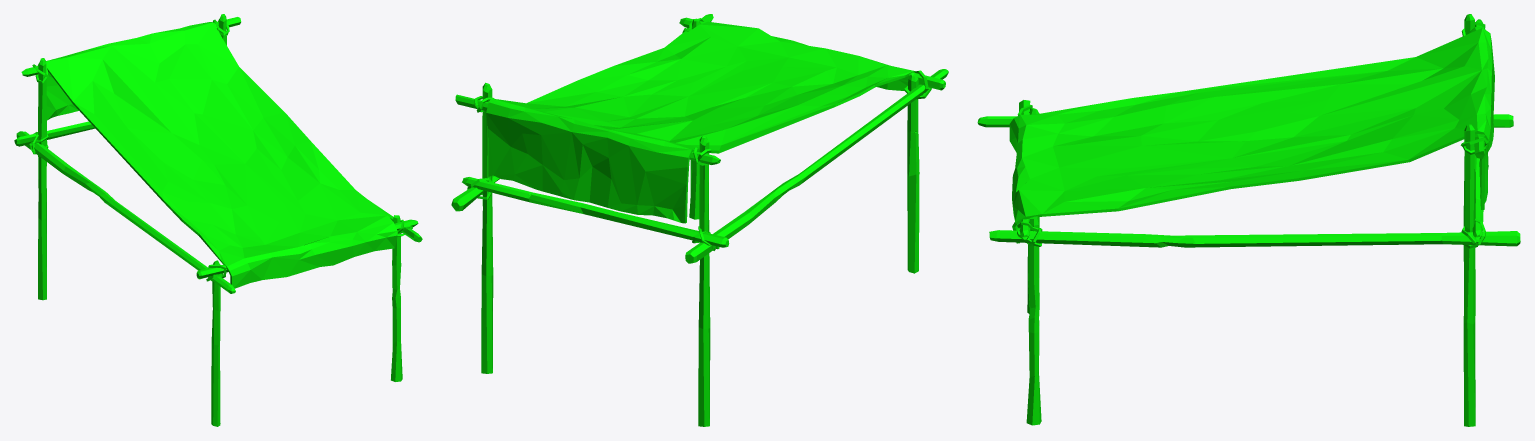
Rendered from SM_Market_Stall_A_Long_Plain.fbx.
3 renders of one model, left to right at view 1: azimuth 30°, elevation 25°; view 2: azimuth 150°, elevation 25°; view 3: azimuth 270°, elevation 25°, orthographic. The views are drawn at different scales.
Visible parts, largest first — view 1: market-stall-a-long-plain; view 2: market-stall-a-long-plain; view 3: market-stall-a-long-plain.
Part boxes in pixels (x1,y1,x2,y2): market-stall-a-long-plain: [14, 14, 422, 426]; market-stall-a-long-plain: [451, 14, 948, 426]; market-stall-a-long-plain: [977, 14, 1520, 426].
Size of the model in its own units: 3.74 by 3.82 by 6.24.
